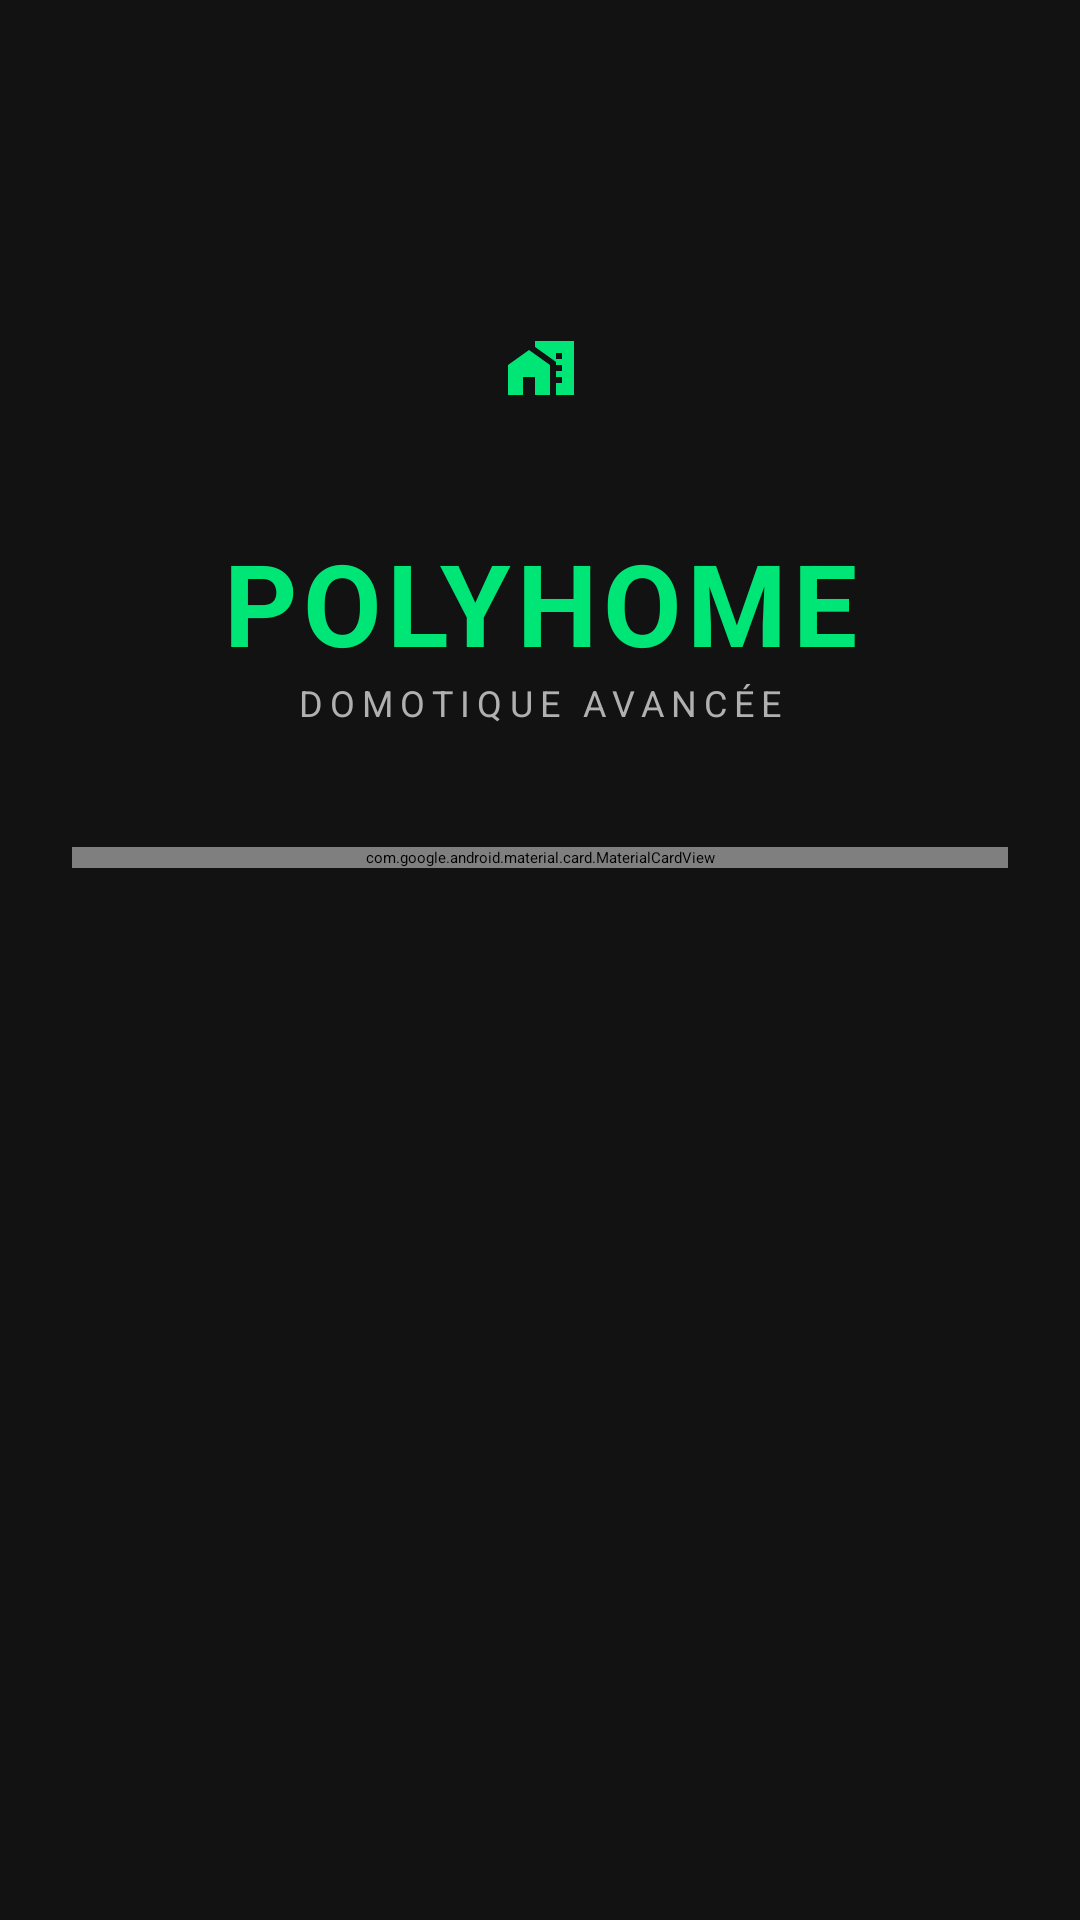

Screen size 1080px x 1920px. Icon name, then its center in pixels as (x,y):
home neon: (541,368)
